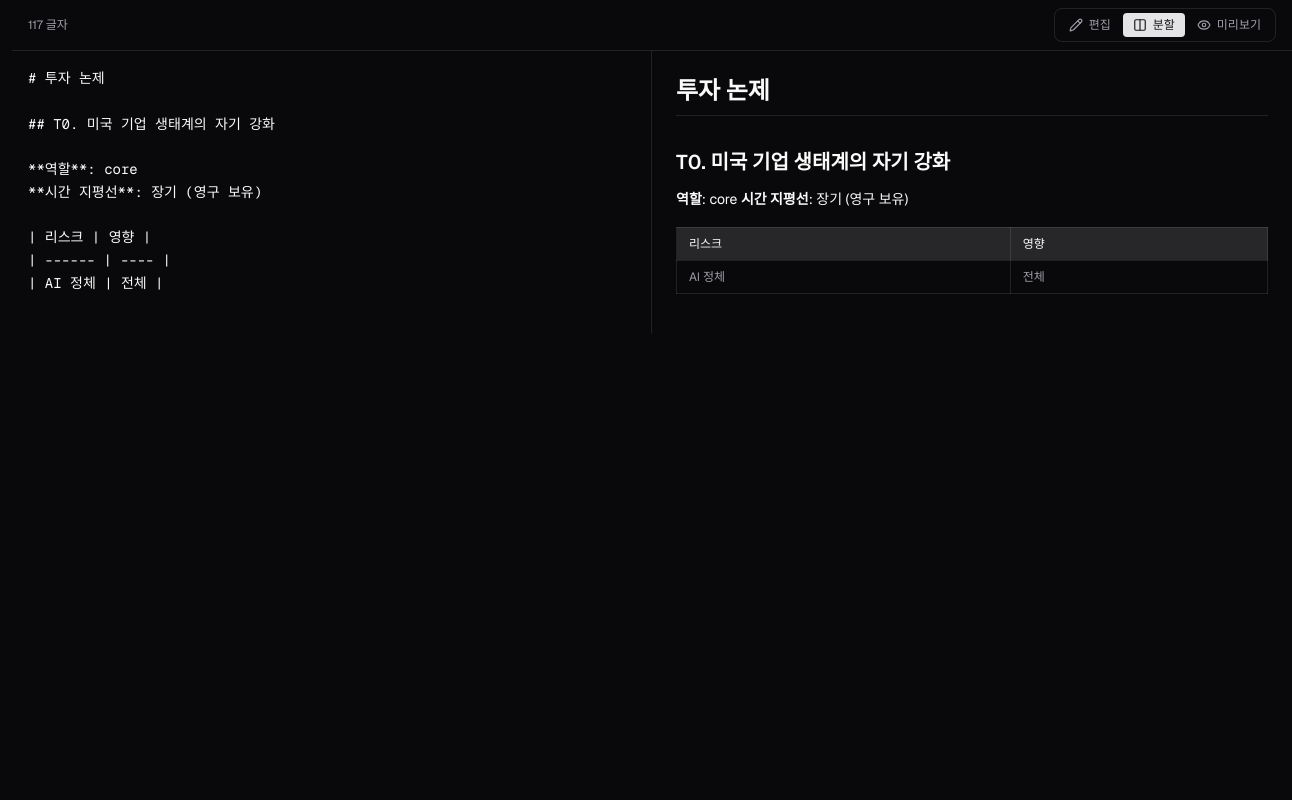
ThesesEditor › 편집과 저장 › API 에러 시 에러 메시지를 표시한다
The width and height of the screenshot is (1292, 800).
In the text box with test id "theses-textarea": (332, 192) left=12, top=51, right=651, bottom=334, type " 에러 테스트"
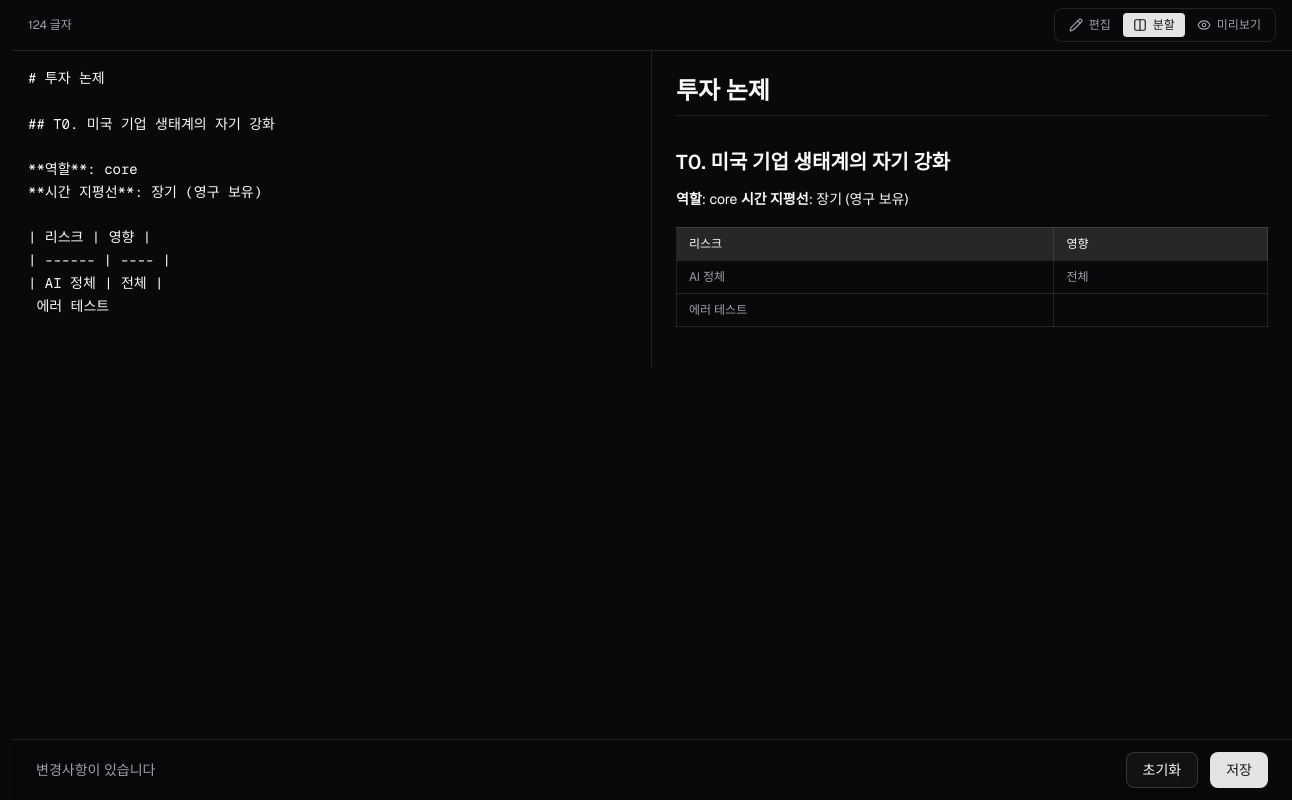
Click the button "저장": (1239, 770) left=1210, top=752, right=1268, bottom=788
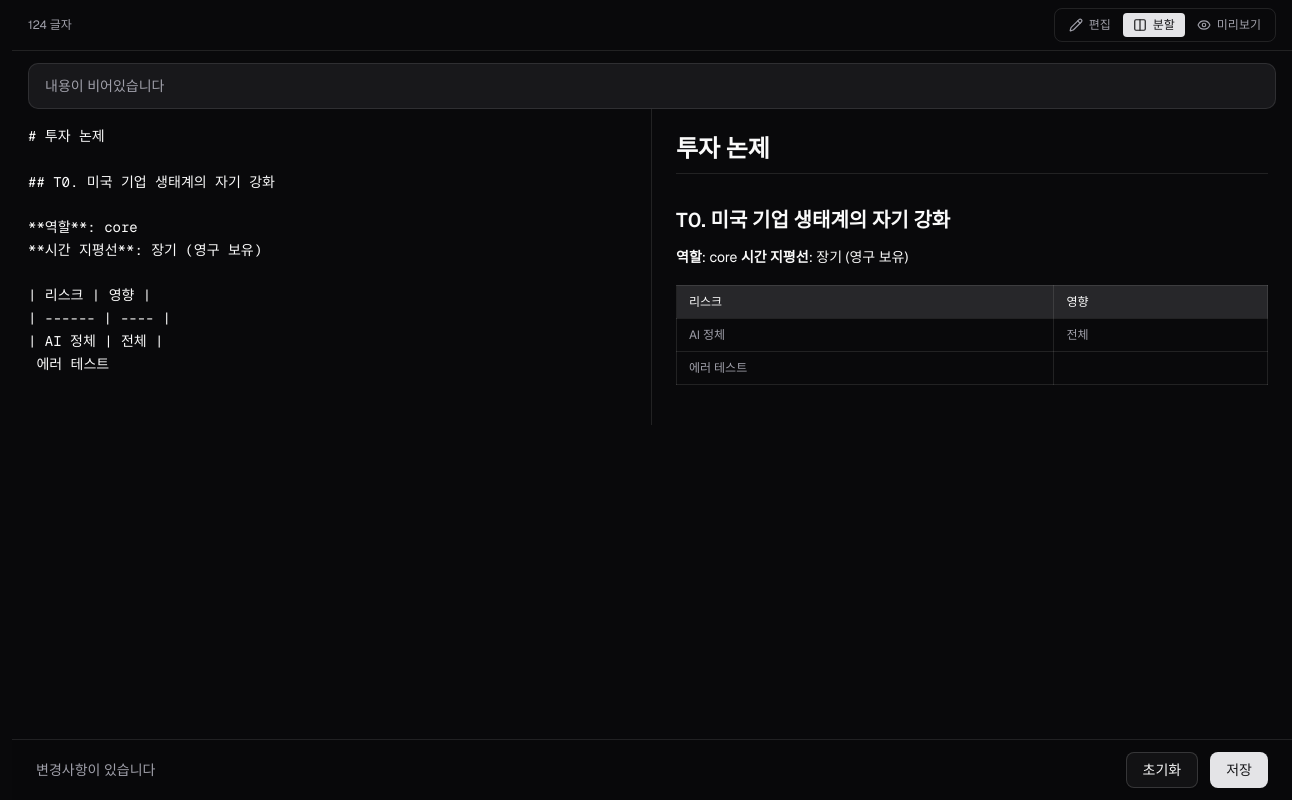
Result: the text "내용이 비어있습니다" is shown at left=45, top=77, right=164, bottom=95
